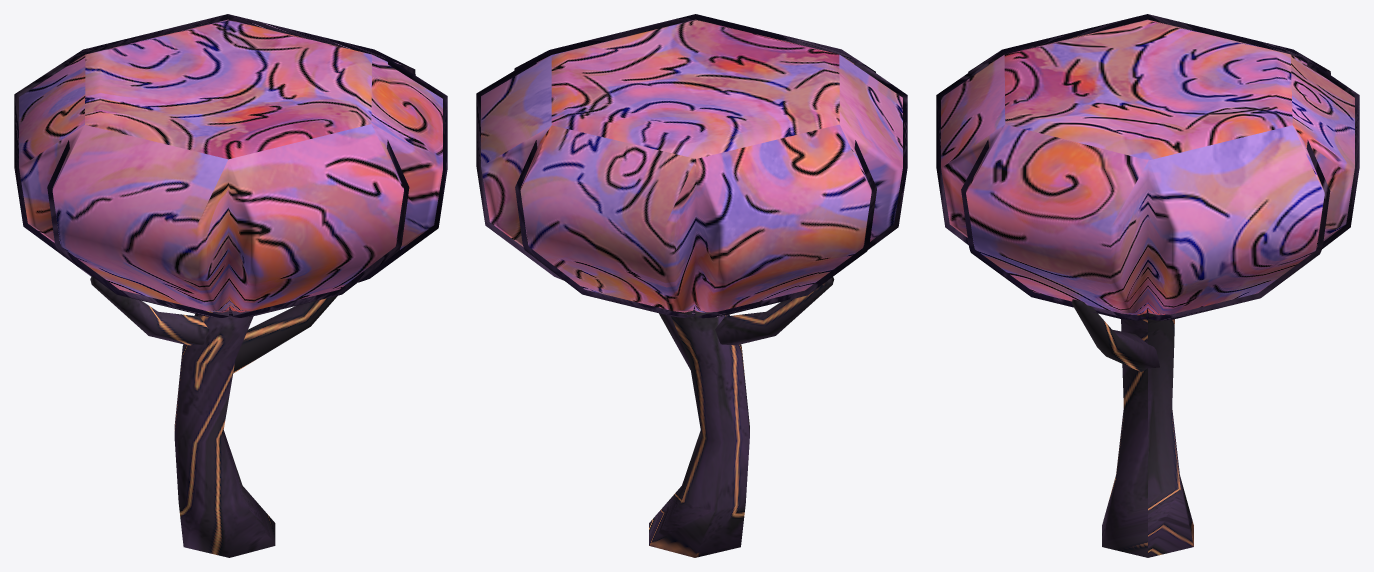
Rendered from polygonalmind-momuspark-059.glb.
3 renders of one model, left to right at view 1: azimuth 30°, elevation 25°; view 2: azimuth 150°, elevation 25°; view 3: azimuth 270°, elevation 25°, orthographic.
Parts seen in each view (by area): view 1: Tree_03_Art; view 2: Tree_03_Art; view 3: Tree_03_Art.
Boxes of the visible parts, <box> form: Tree_03_Art: <box>14,14,447,557</box>; Tree_03_Art: <box>476,14,907,557</box>; Tree_03_Art: <box>936,14,1359,557</box>.
Size of what is drawn, in the model's own units: 2.52 by 2.76 by 2.31.
Materials: 3 (3 with a texture image).
